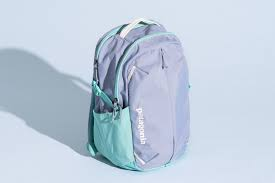bag: (89, 20, 192, 171)
